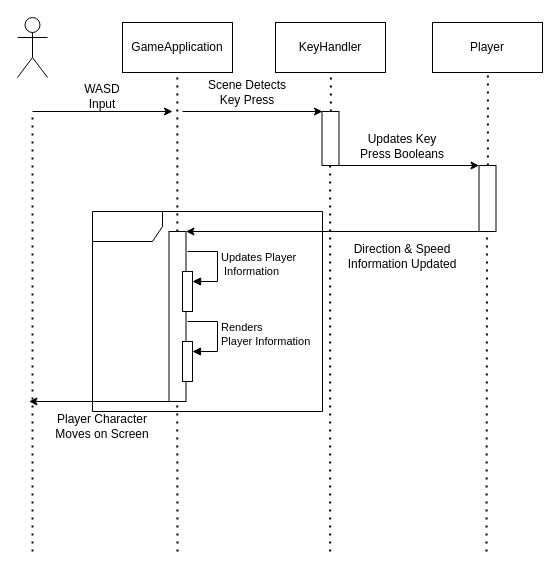
This 560x571 diagram has some shape labels left out. The centre of each missing label's shape, as x and y in pixels:
"GameLoop" goes at point (207, 311).
"User" goes at point (32, 47).
